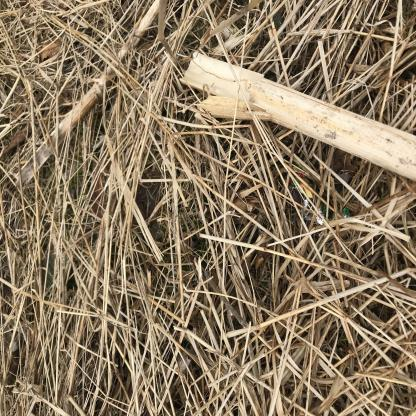trash: (139, 375, 188, 416)
